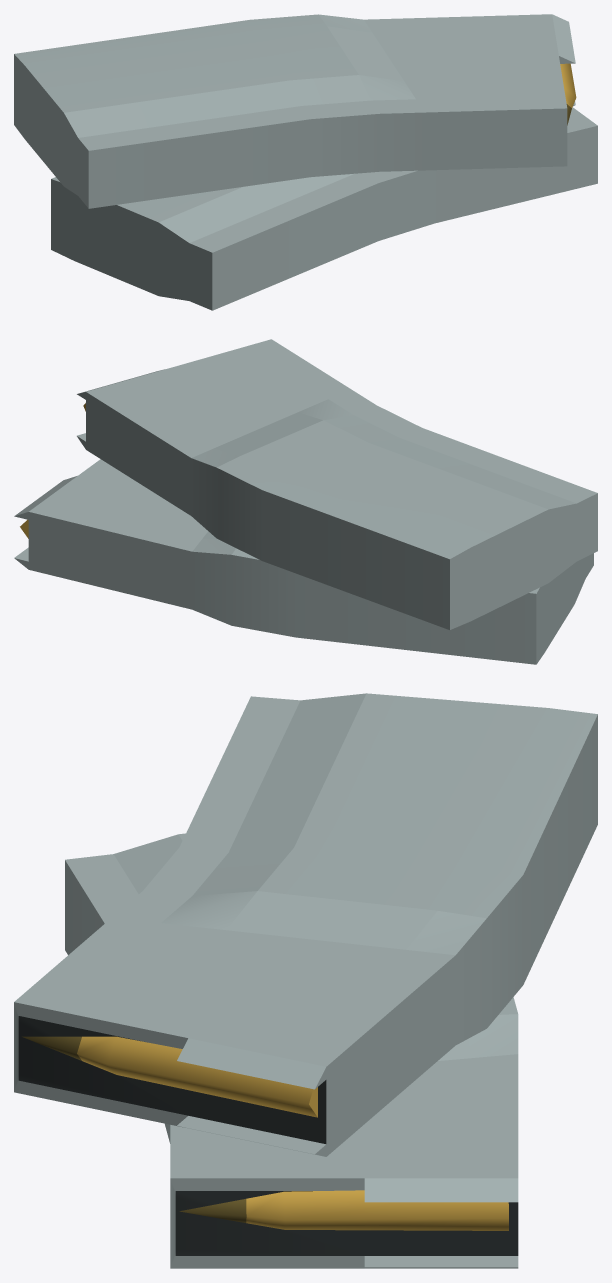
File: AmmoSmall_556mm.FBX
3 views of the same model, one above another, from view 1: azimuth 30°, elevation 25°; view 2: azimuth 150°, elevation 25°; view 3: azimuth 270°, elevation 25° (orthographic). The views are drawn at different scales.
Visible parts, largest first — view 1: AmmoSmall_556mm; view 2: AmmoSmall_556mm; view 3: AmmoSmall_556mm.
Part boxes in pixels (left/top/right/bottom): AmmoSmall_556mm: left=14, top=14, right=597, bottom=310; AmmoSmall_556mm: left=14, top=339, right=597, bottom=664; AmmoSmall_556mm: left=14, top=693, right=597, bottom=1268.
Bounding box in the file's own units: 21.07 × 13.67 × 5.93.
